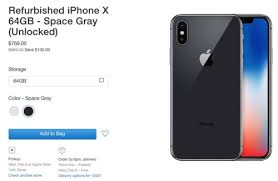iphone: (167, 12, 242, 162)
iphone10: (168, 13, 243, 163)
